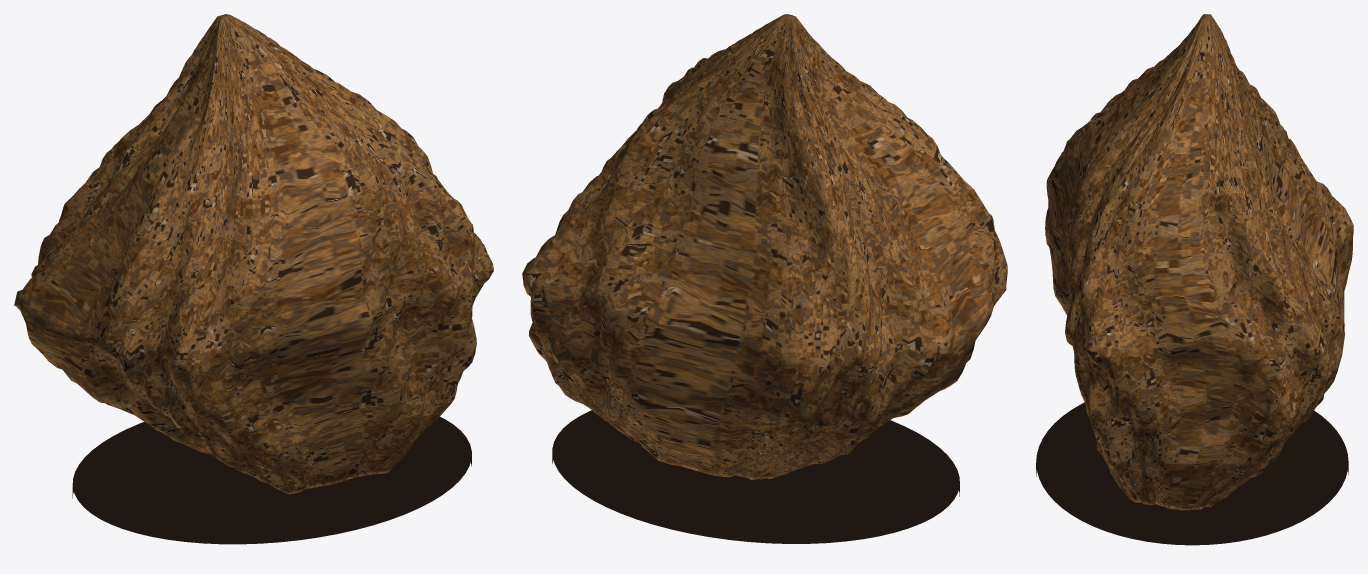
File: lingstone-concept-03-v19.glb
The picture shows the model from 3 angles, left to right: view 1: azimuth 30°, elevation 25°; view 2: azimuth 150°, elevation 25°; view 3: azimuth 270°, elevation 25°; orthographic projection. The views are drawn at different scales.
Parts seen in each view (by area): view 1: XY-CONCEPT-003 concept stone, Concept display plinth; view 2: XY-CONCEPT-003 concept stone, Concept display plinth; view 3: XY-CONCEPT-003 concept stone, Concept display plinth.
Boxes of the visible parts, x1,y1,x2,y2 form: XY-CONCEPT-003 concept stone: (14,14,493,494); Concept display plinth: (72,417,471,544); XY-CONCEPT-003 concept stone: (522,14,1007,479); Concept display plinth: (552,410,959,543); XY-CONCEPT-003 concept stone: (1045,14,1353,510); Concept display plinth: (1036,402,1348,545).
Bounding box in the file's own units: 1.35 × 1.51 × 0.9833.
2 materials, 1 textured.
